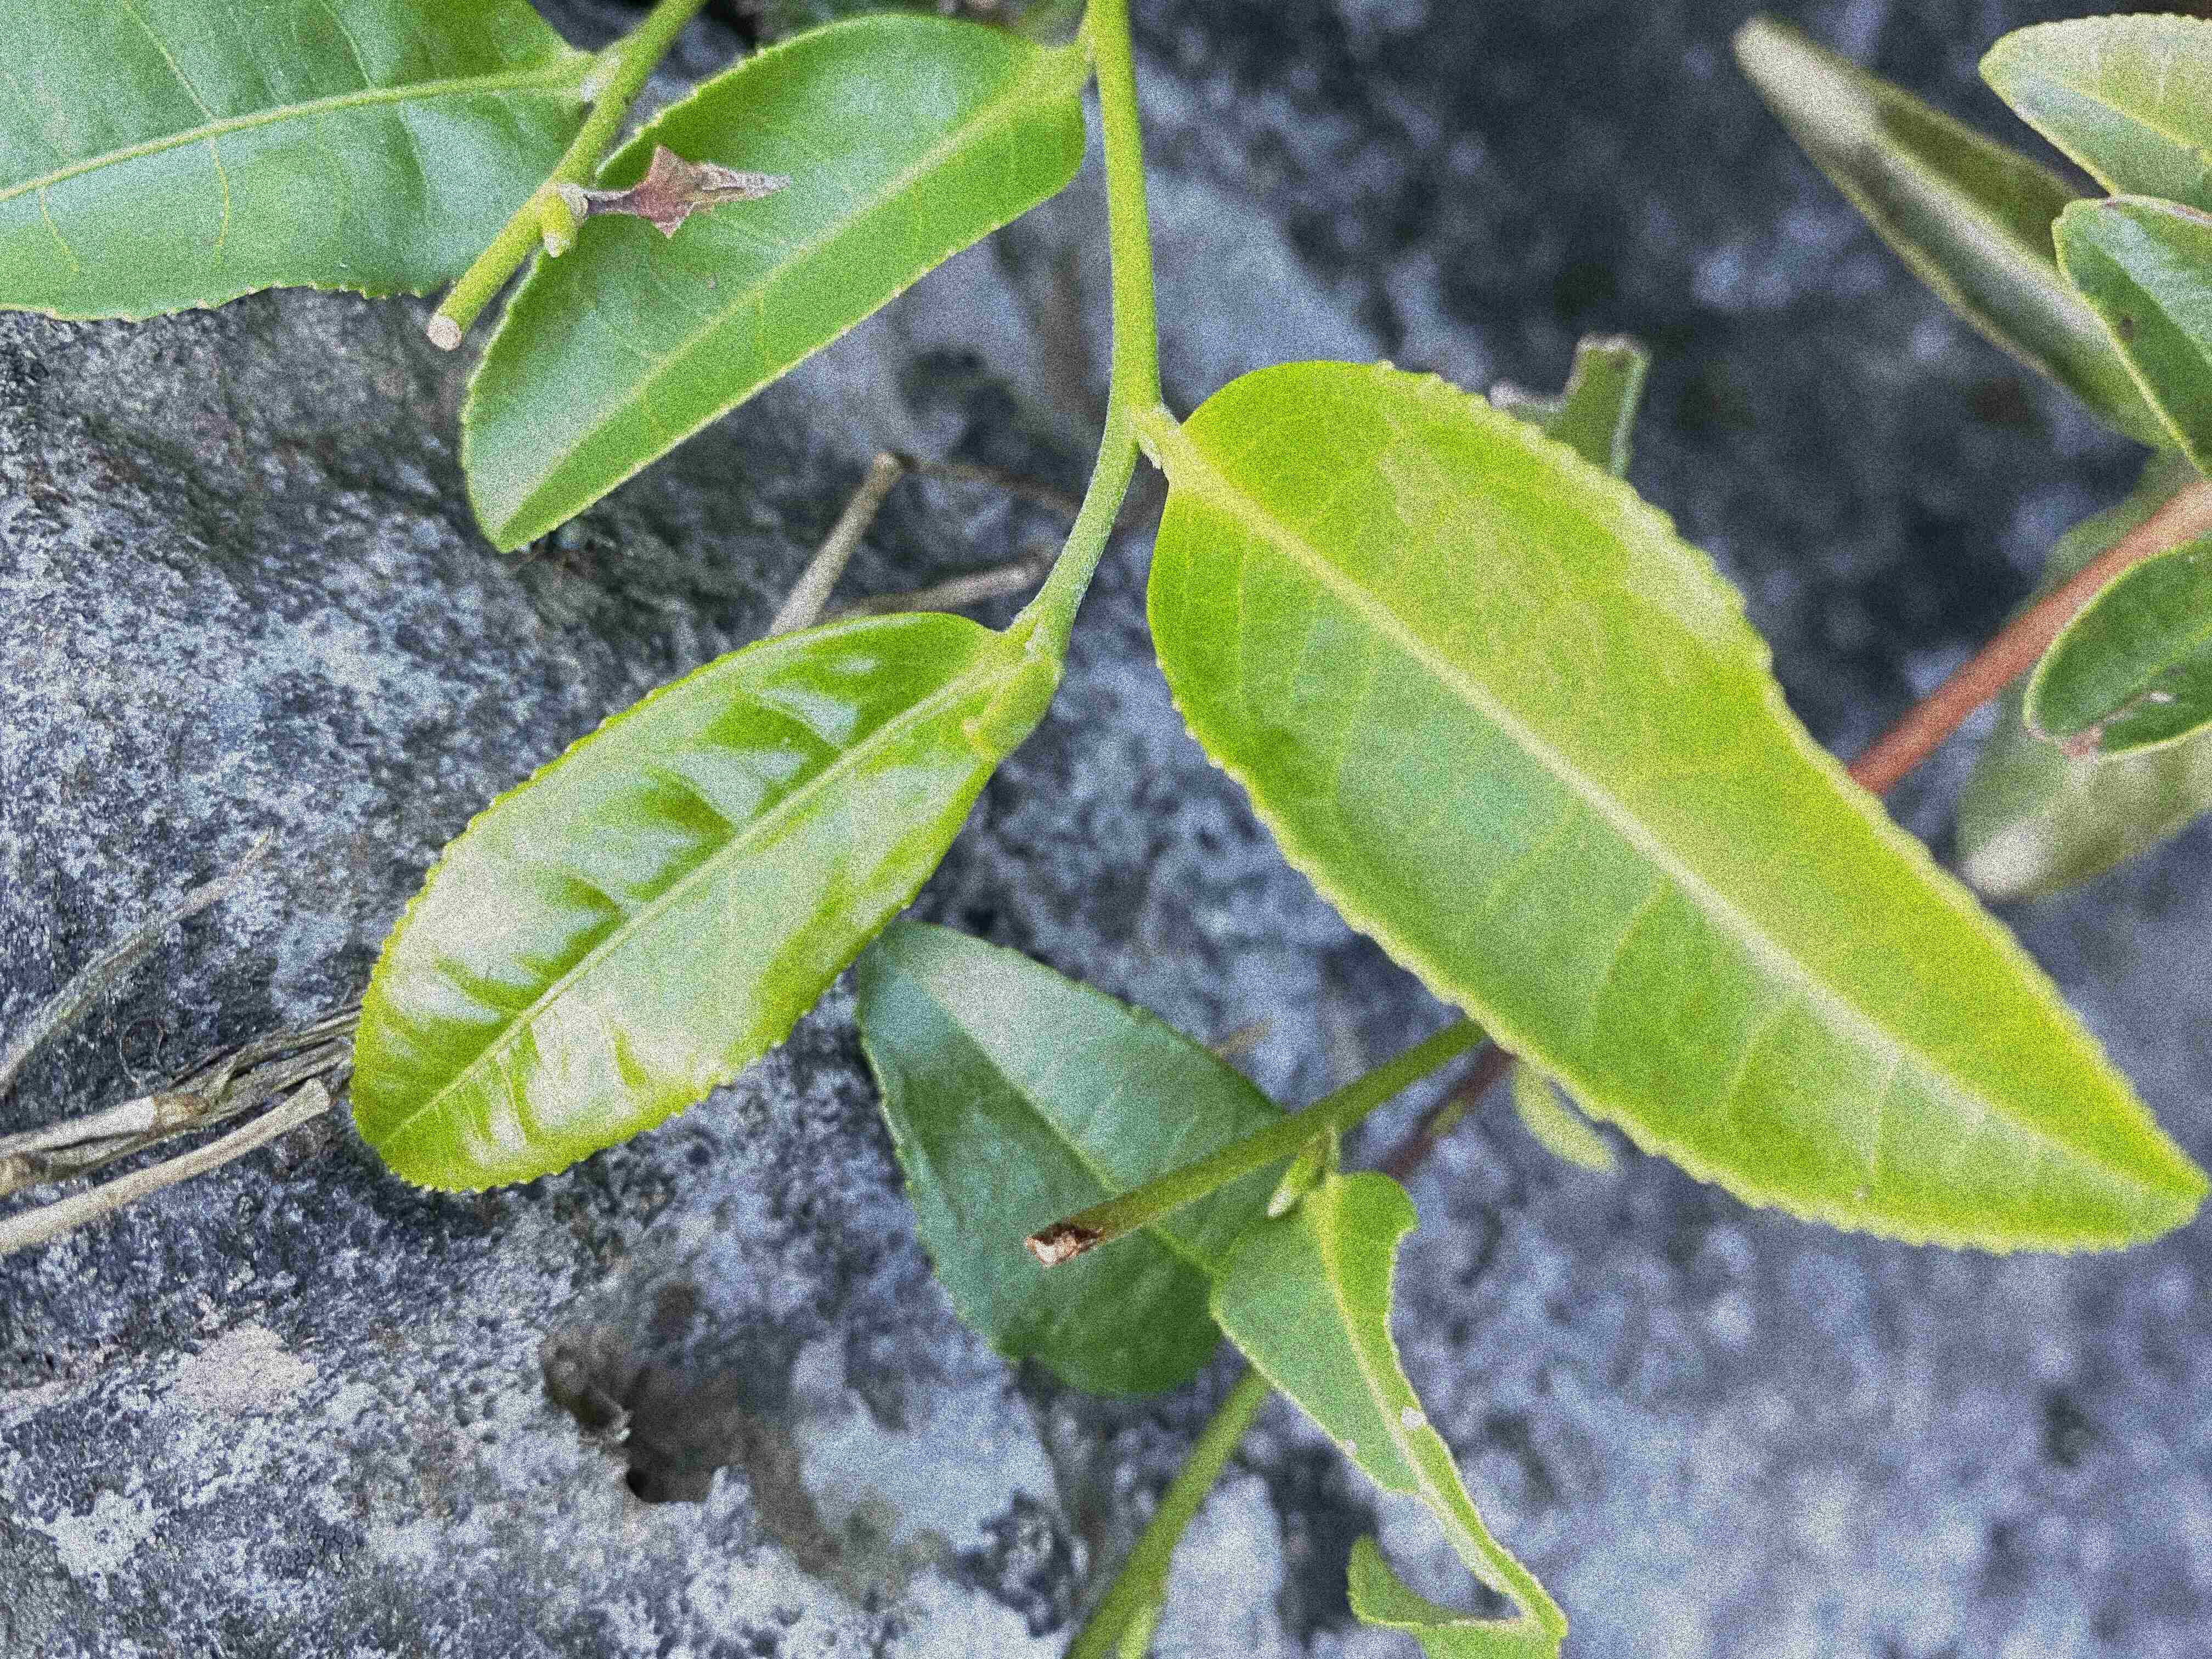chihuo_high: (1204, 1166, 1575, 1657)
healthy: (1141, 349, 2207, 1253), (348, 613, 1031, 1195)
tanju_high: (2022, 538, 2212, 767)
